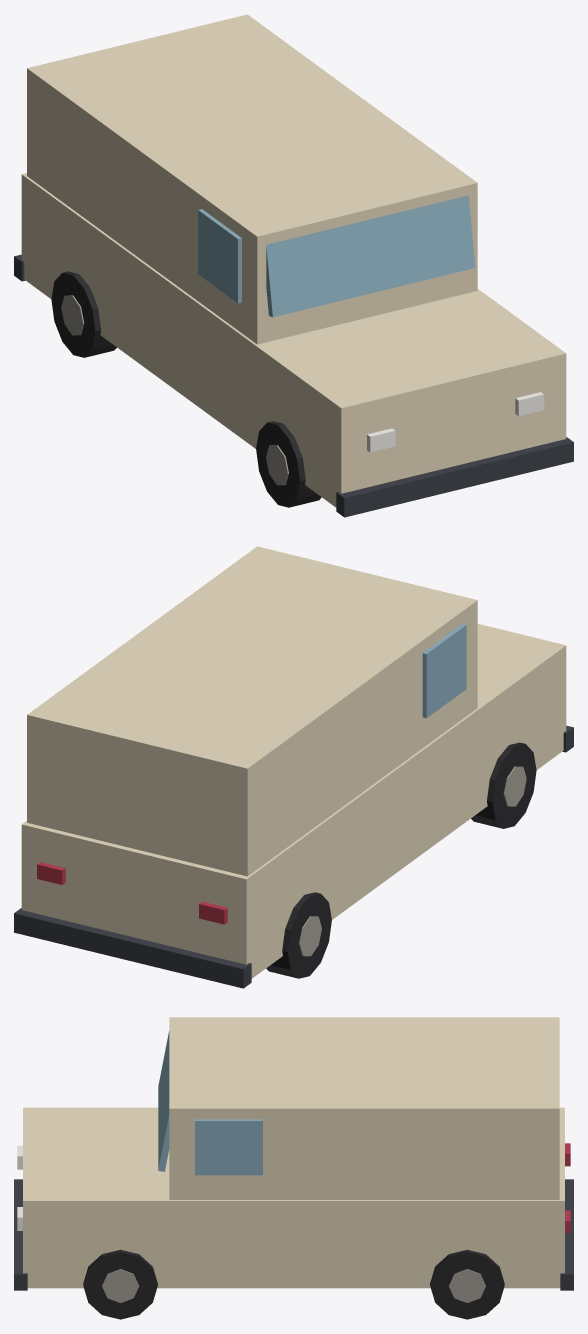
Rendered from car_van.glb.
3 renders of one model, top to bottom at view 1: azimuth 30°, elevation 25°; view 2: azimuth 150°, elevation 25°; view 3: azimuth 270°, elevation 25°, orthographic. The views are drawn at different scales.
Visible parts, largest first — view 1: car_van; view 2: car_van; view 3: car_van.
Part boxes in pixels (x1,y1,x2,y2): car_van: [14, 14, 573, 517]; car_van: [14, 546, 573, 988]; car_van: [14, 1017, 573, 1319].
Bounding box in the file's own units: 2.07 × 2.03 × 4.96.
